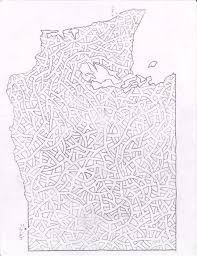maze: (22, 72, 178, 251), (44, 33, 130, 71)
